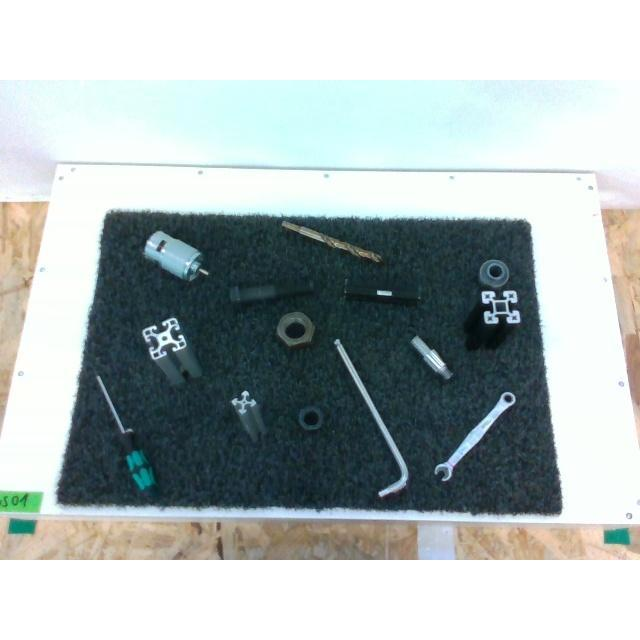AllenKey: (332, 338, 411, 500)
Axis2: (411, 334, 453, 378)
Bearing2: (478, 259, 509, 285)
Drill: (280, 221, 384, 261)
F20_20_B: (342, 278, 426, 306)
F20_20_G: (232, 388, 268, 442)
M20: (296, 406, 324, 429)
M20_100: (226, 278, 314, 304)
M30: (275, 309, 317, 349)
Motor2: (141, 230, 211, 284)
S40_40_B: (463, 290, 522, 352)
S40_40_G: (142, 314, 205, 386)
Screwdriver: (90, 364, 158, 504)
Wrench: (436, 392, 516, 478)
